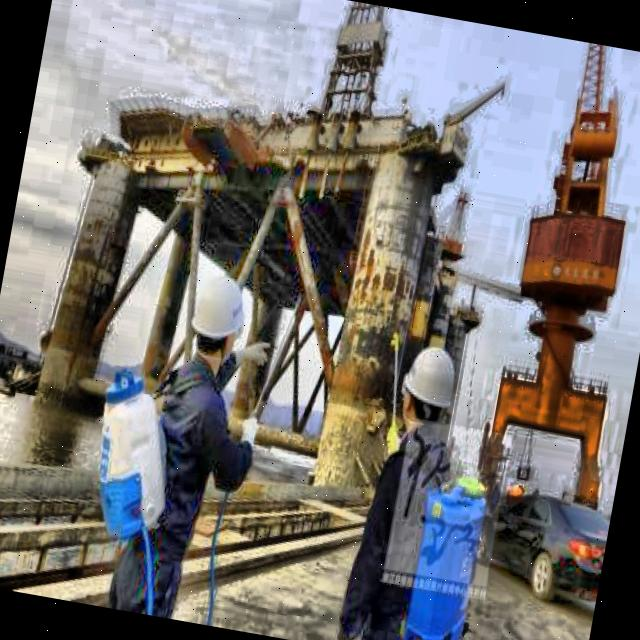helmet: (166, 255, 262, 378), (389, 337, 464, 442)
